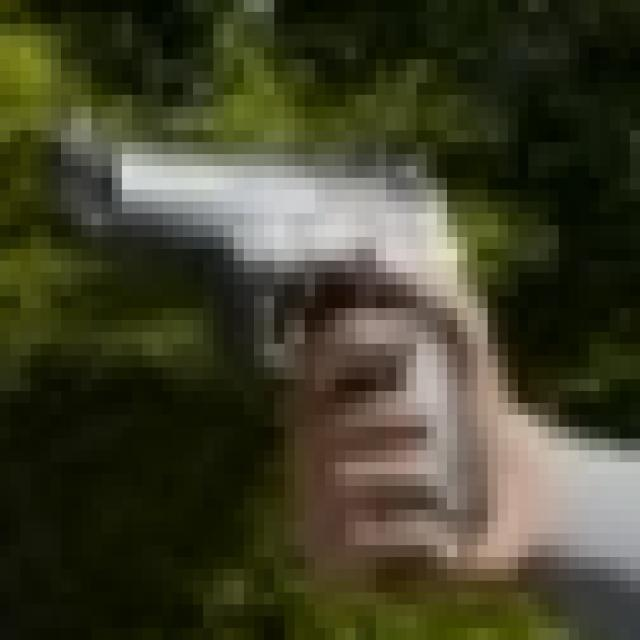FPistol: (56, 96, 503, 517)
